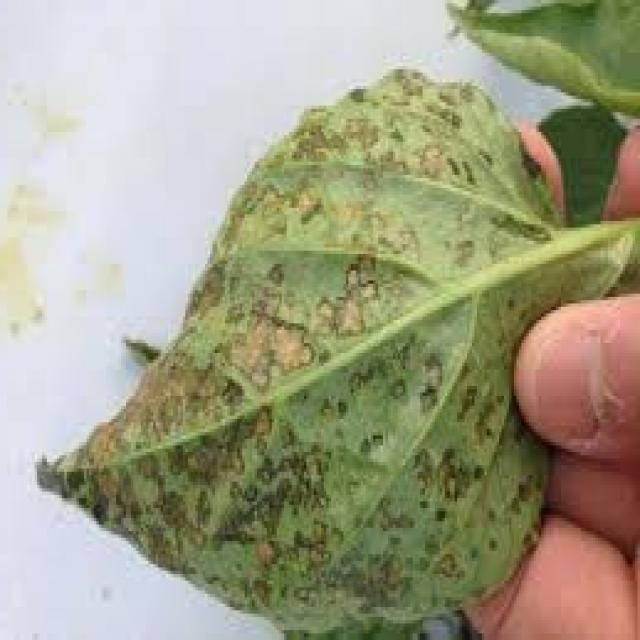bercak_daun: (45, 66, 527, 640)
